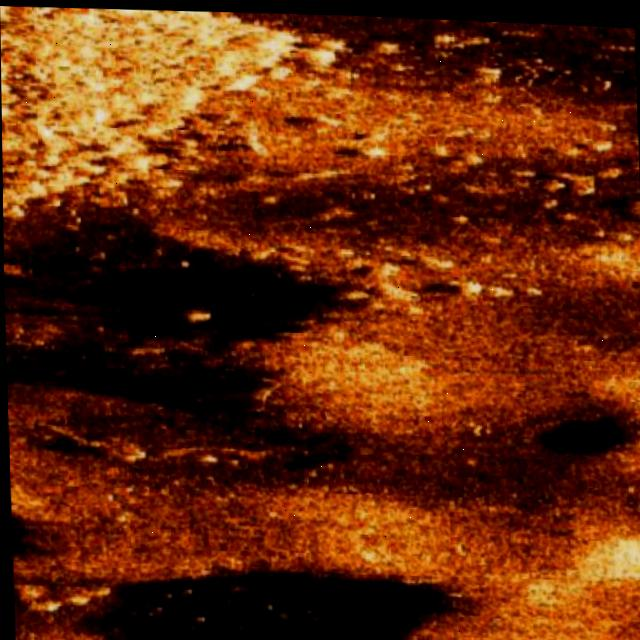bedrock group: (0, 1, 313, 229)
